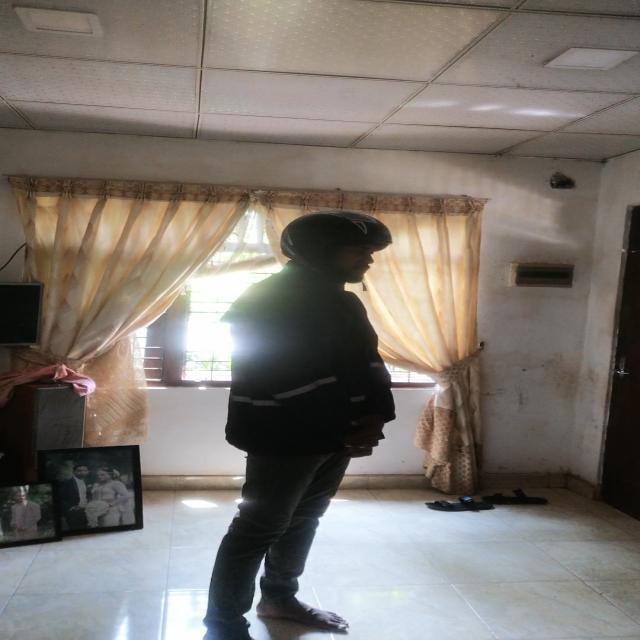Helmet_Wearer: (282, 204, 392, 288)
Jacket_Wearer: (206, 264, 400, 458)
Person: (211, 201, 391, 640)
